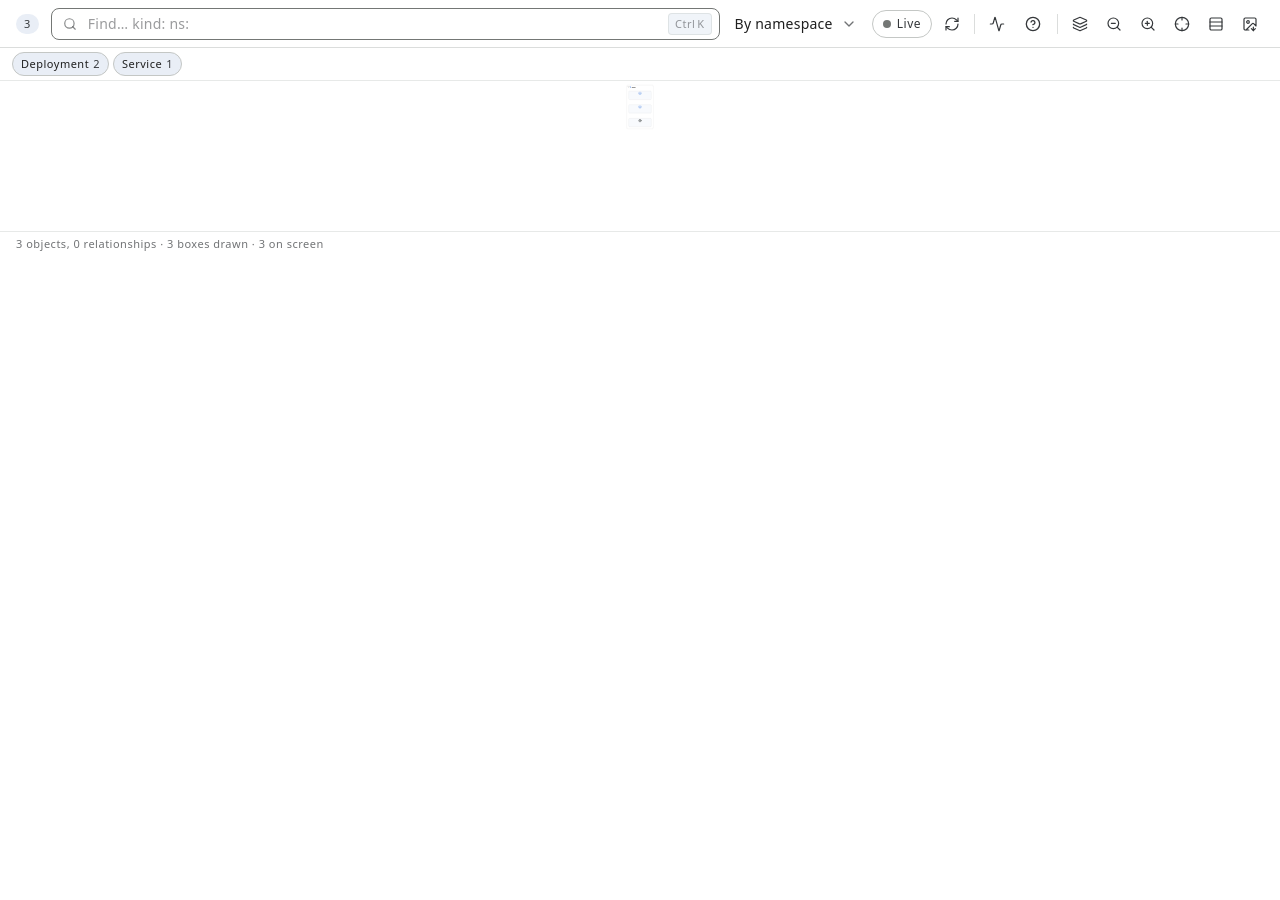
Test: TopologyView, as the toolbar now has it › hides unticked applications and keeps the kind counts complete
The width and height of the screenshot is (1280, 900).
Click the button "By namespace".
click(796, 24)  # box top-left (726, 8), bottom-right (866, 40)
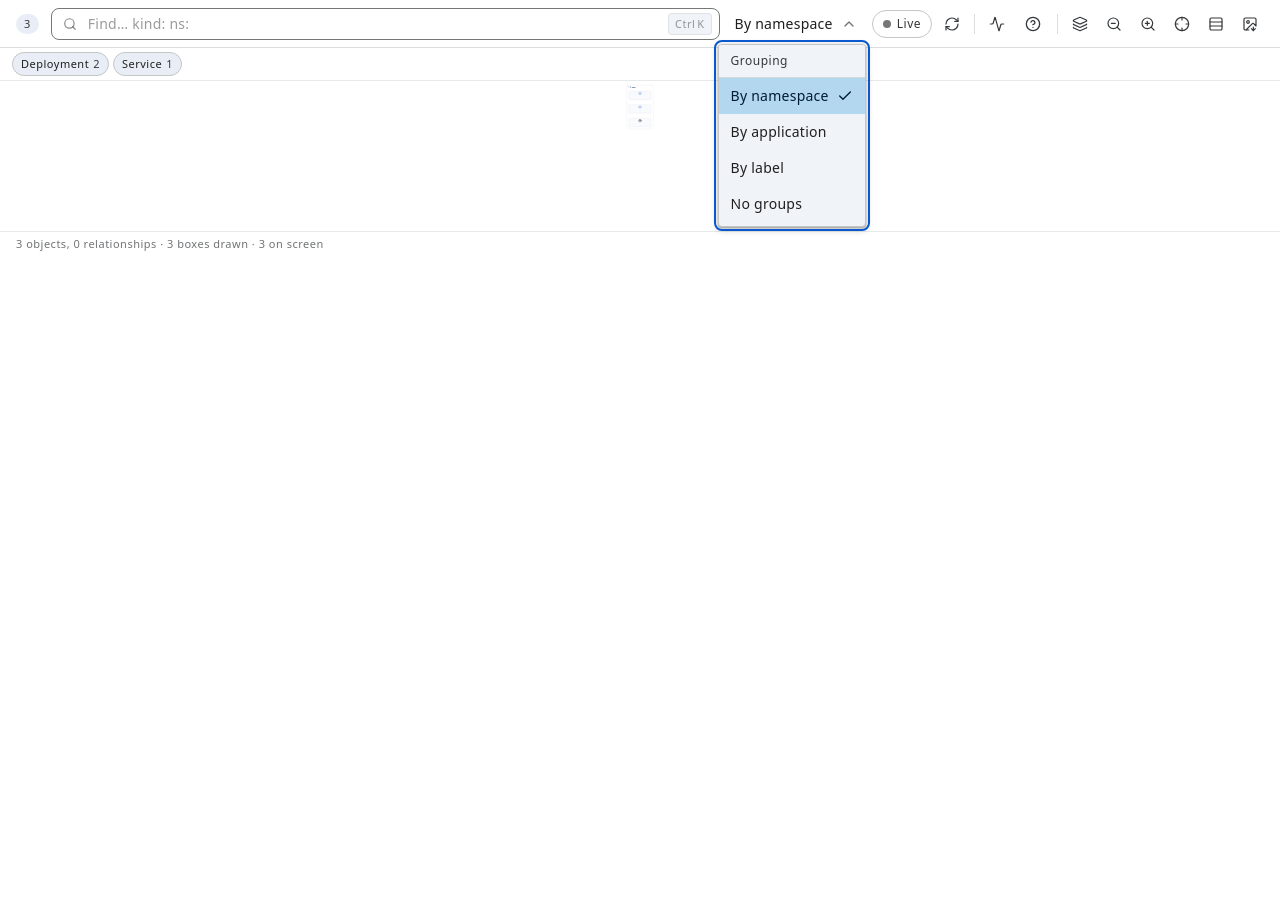
Click the option "By application".
click(792, 132)  # box top-left (719, 114), bottom-right (865, 150)
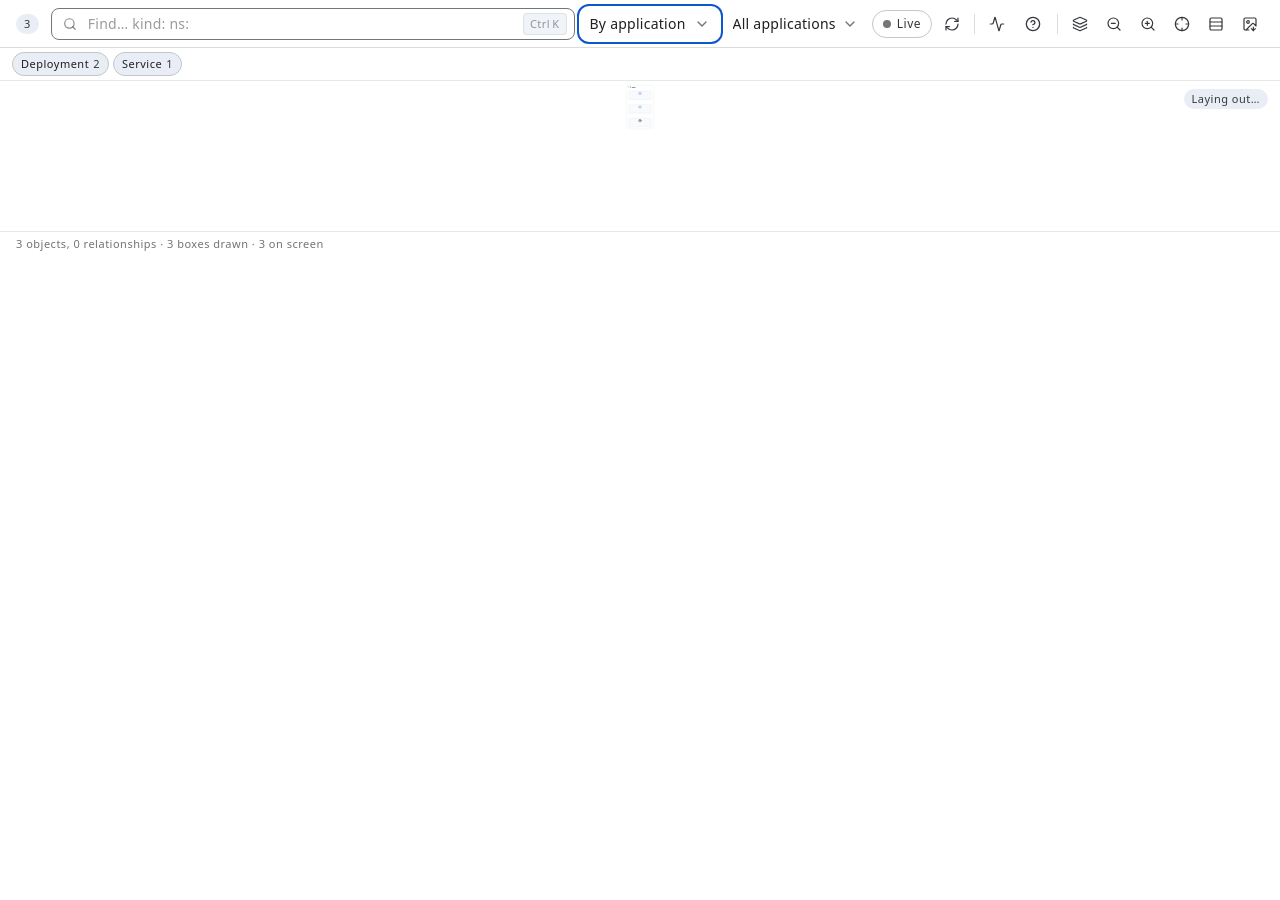
Click the button "All applications".
click(795, 24)  # box top-left (725, 8), bottom-right (866, 40)
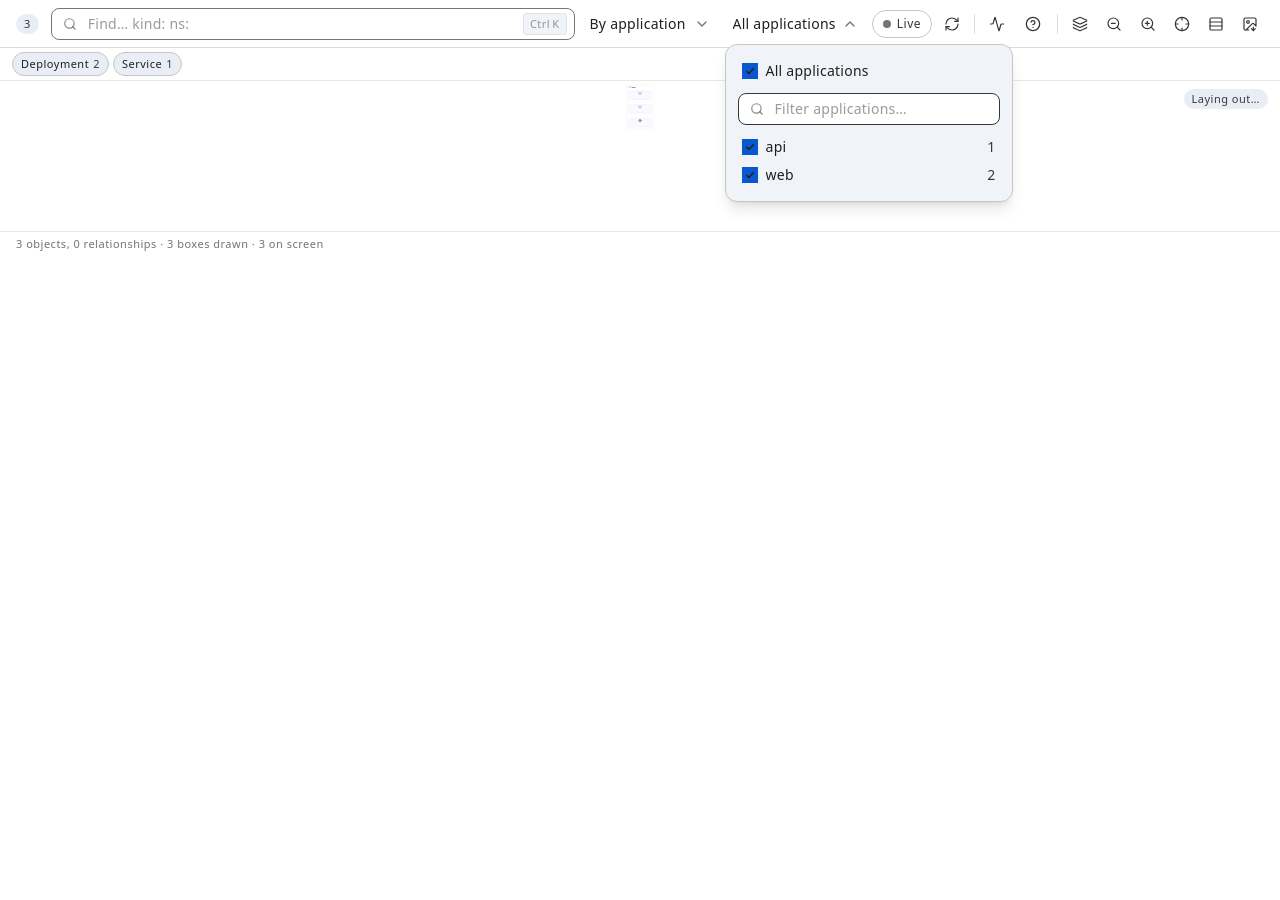
Click the checkbox labelled "web 2".
click(750, 174)  # box top-left (742, 166), bottom-right (758, 182)
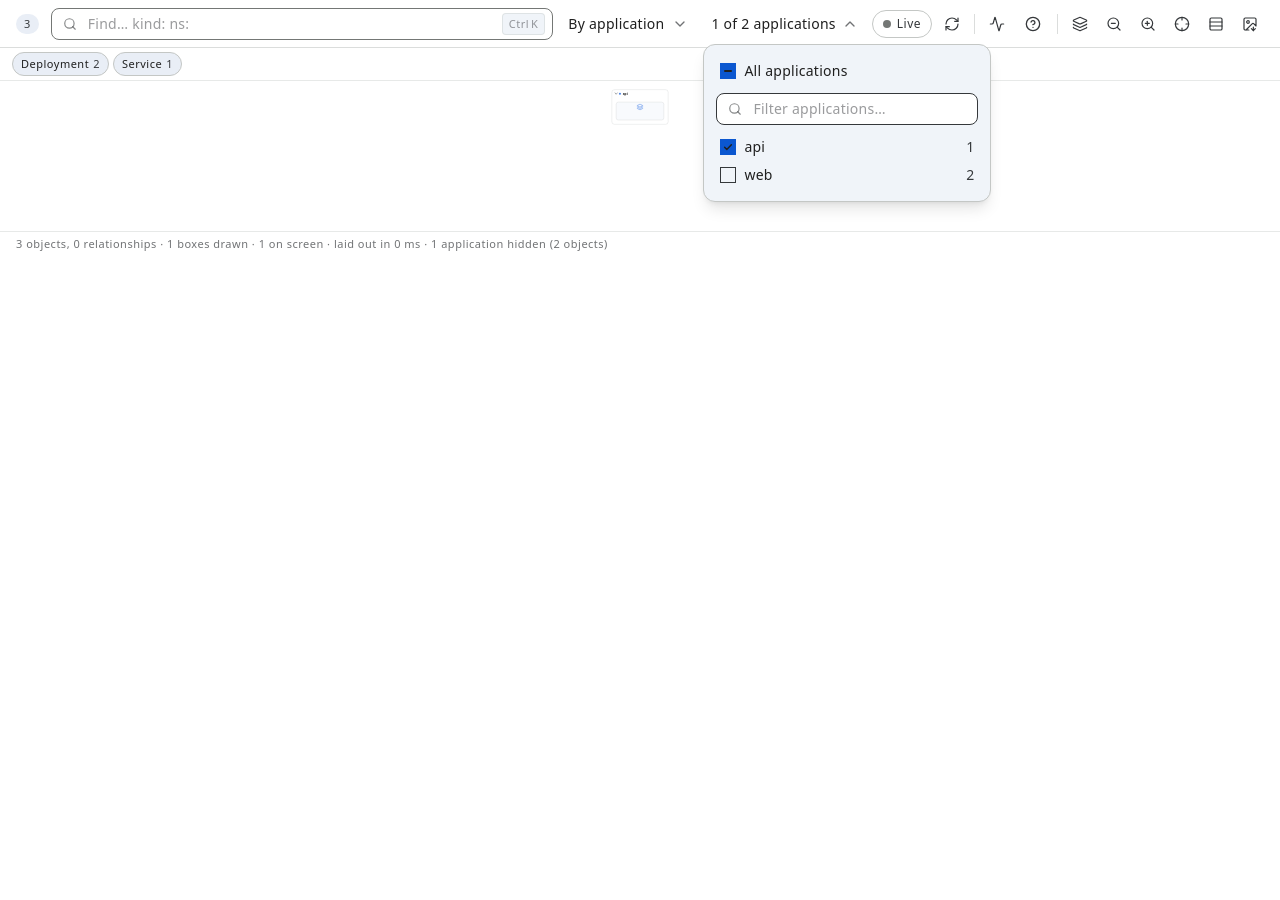
Check: the button "Open Deployment api" is shown, box top-left (616, 102), bottom-right (664, 120)
Check: the text "1 application hidden (2 objects)" is shown, box top-left (424, 236), bottom-right (608, 251)
